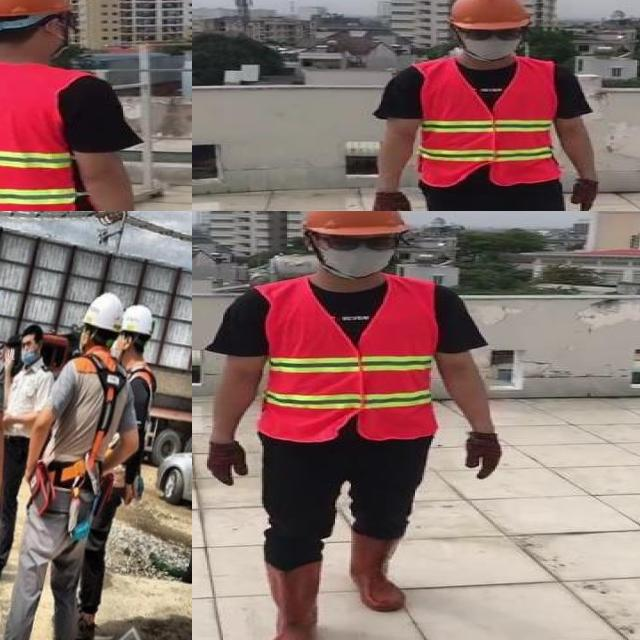Harness: (60, 354, 127, 494)
boots: (258, 560, 327, 640), (346, 529, 410, 611)
face_mask: (312, 230, 404, 280), (459, 21, 523, 58)
glasses: (318, 230, 409, 258), (458, 24, 524, 42)
hand_glove: (463, 433, 504, 480), (205, 442, 250, 483), (368, 191, 413, 211), (571, 178, 596, 211)
head_helmet: (289, 211, 417, 238), (449, 0, 532, 31), (0, 0, 71, 21)
person: (192, 211, 508, 640), (363, 0, 617, 211), (0, 0, 171, 211)
vest: (262, 278, 435, 442), (409, 58, 559, 184), (0, 65, 87, 211)
